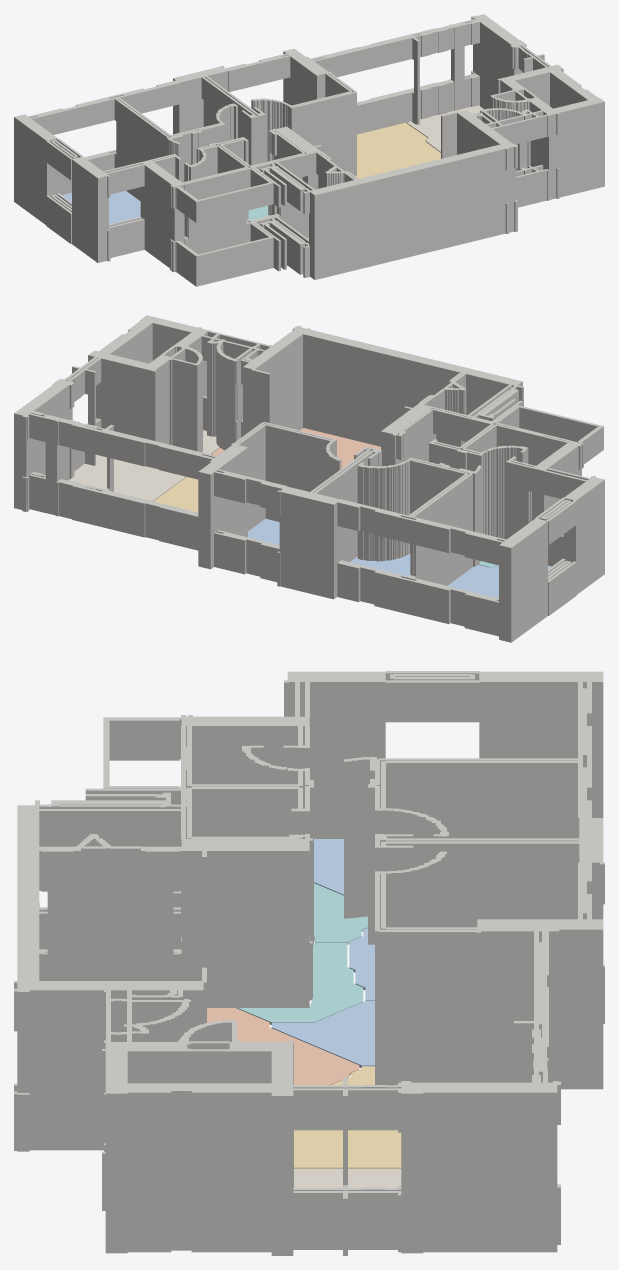
3 renders of one model, top to bottom at view 1: azimuth 30°, elevation 25°; view 2: azimuth 150°, elevation 25°; view 3: azimuth 270°, elevation 25°, orthographic. The views are drawn at different scales.
Parts seen in each view (by area): view 1: walls, room:living:7, room:bedroom:9, room:other:8; view 2: walls, room:other:8, room:bedroom:9, room:living:7, room:kitchen:10, room:bedroom:0, room:bedroom:6; view 3: walls, room:living:7, room:bath:2, room:bedroom:6, room:kitchen:10, room:bath:1, room:other:8, room:bedroom:9, room:bedroom:0.
Part boxes in pixels (x1,y1,x2,y2): walls: [14, 14, 604, 286]; room:living:7: [356, 122, 440, 178]; room:bedroom:9: [62, 191, 140, 224]; room:other:8: [406, 105, 483, 152]; walls: [14, 315, 604, 642]; room:other:8: [68, 430, 219, 501]; room:bedroom:9: [447, 565, 551, 598]; room:living:7: [153, 477, 198, 512]; room:kitchen:10: [212, 428, 380, 468]; room:bedroom:0: [350, 554, 410, 576]; room:bedroom:6: [248, 518, 279, 544]; walls: [14, 671, 604, 1255]; room:living:7: [294, 1066, 401, 1168]; room:bath:2: [237, 942, 363, 1024]; room:bedroom:6: [271, 1001, 374, 1067]; room:kitchen:10: [207, 1008, 359, 1085]; room:bath:1: [314, 883, 367, 944]; room:other:8: [294, 1168, 401, 1187]; room:bedroom:9: [314, 839, 343, 895]; room:bedroom:0: [349, 928, 374, 1000].
Size of the model in its own units: 15.96 by 2.8 by 9.38.
